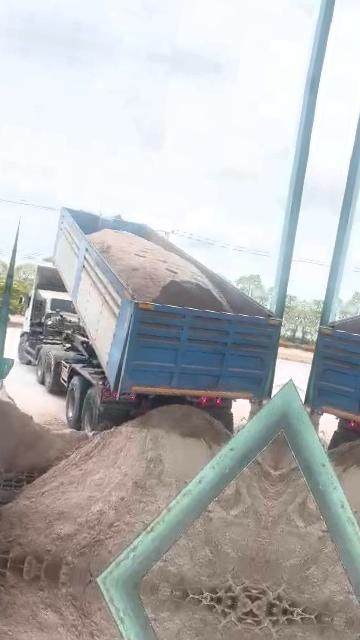sand: (0, 405, 228, 578), (143, 463, 274, 590), (89, 229, 231, 312), (0, 388, 87, 474), (175, 579, 256, 606), (259, 431, 282, 471)
